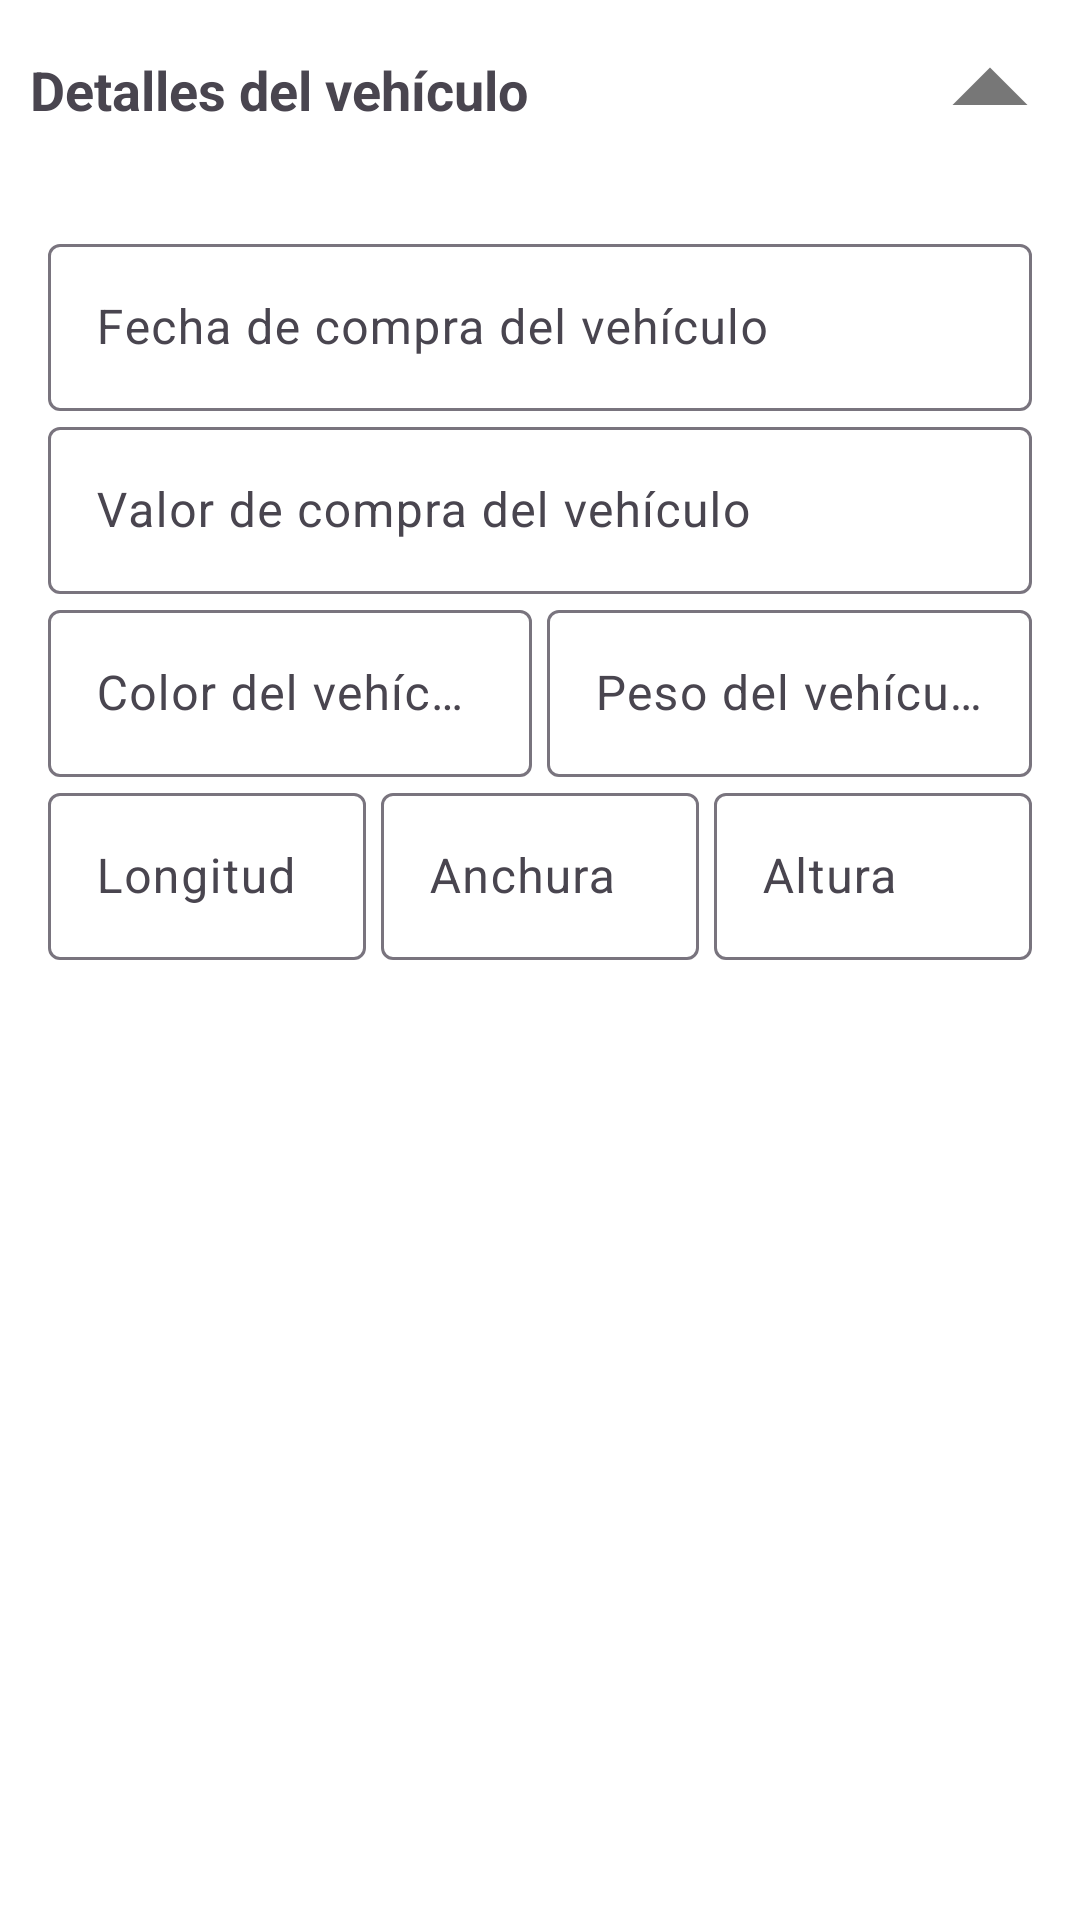

Icon click points for this 1080x1920 phone screenshot, format (x,y):
drop up: (990,86)
